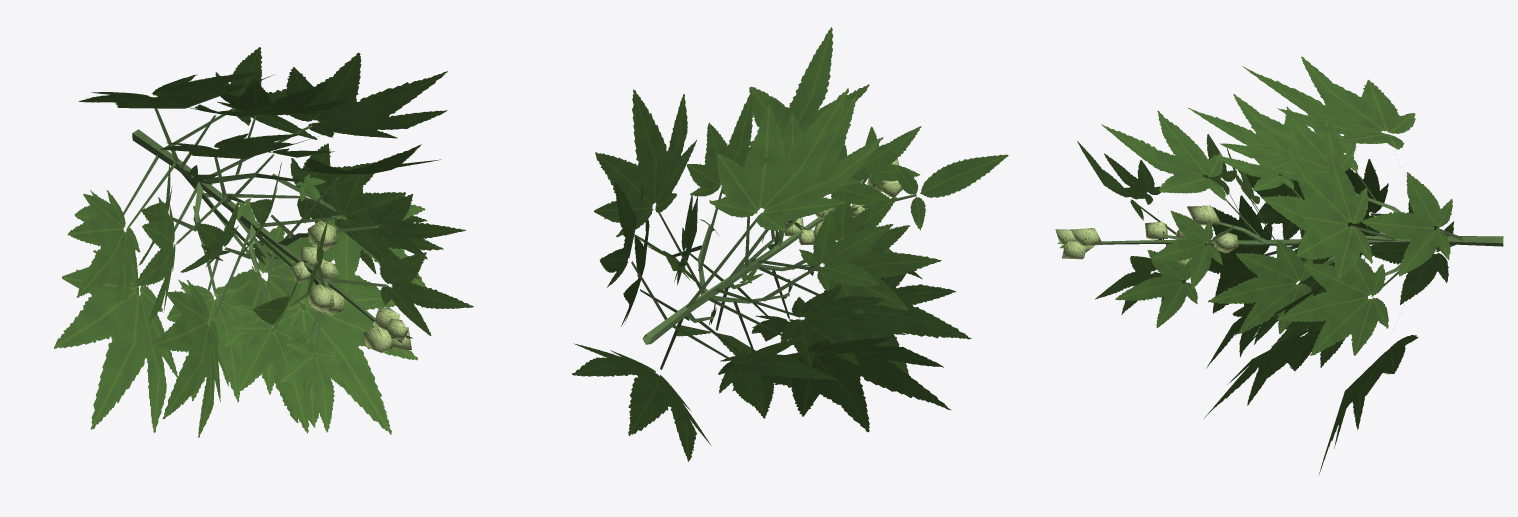
Rendered from p_male_tree_preflower_c0_cards.obj.
3 renders of one model, left to right at view 1: azimuth 30°, elevation 25°; view 2: azimuth 150°, elevation 25°; view 3: azimuth 270°, elevation 25°, orthographic. The views are drawn at different scales.
Size of the model in its own units: 1.31 by 1.25 by 1.28.
1 material, 1 textured.
